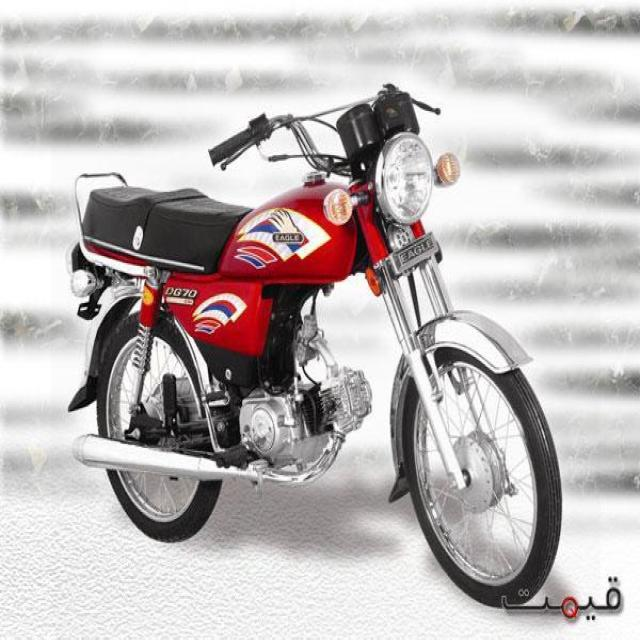motorcycle: (68, 83, 587, 603)
